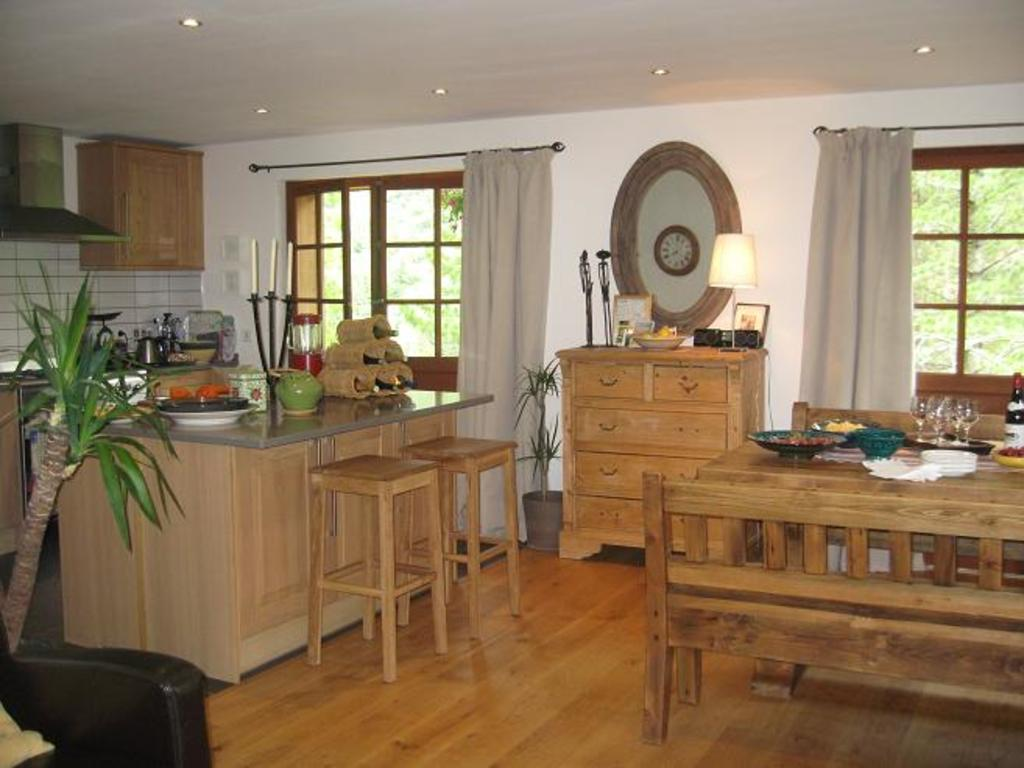cabinet door: (248, 460, 321, 622), (328, 437, 376, 577), (578, 406, 722, 451), (580, 453, 683, 495), (574, 364, 649, 393), (654, 371, 726, 401)
handle: (329, 443, 347, 541), (314, 443, 333, 521), (667, 374, 705, 393), (594, 367, 621, 391), (593, 417, 622, 435), (599, 465, 625, 478)
